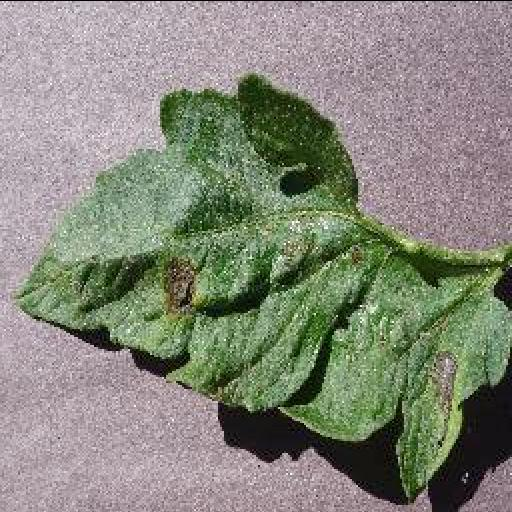disease_tomato: (10, 74, 512, 500)
